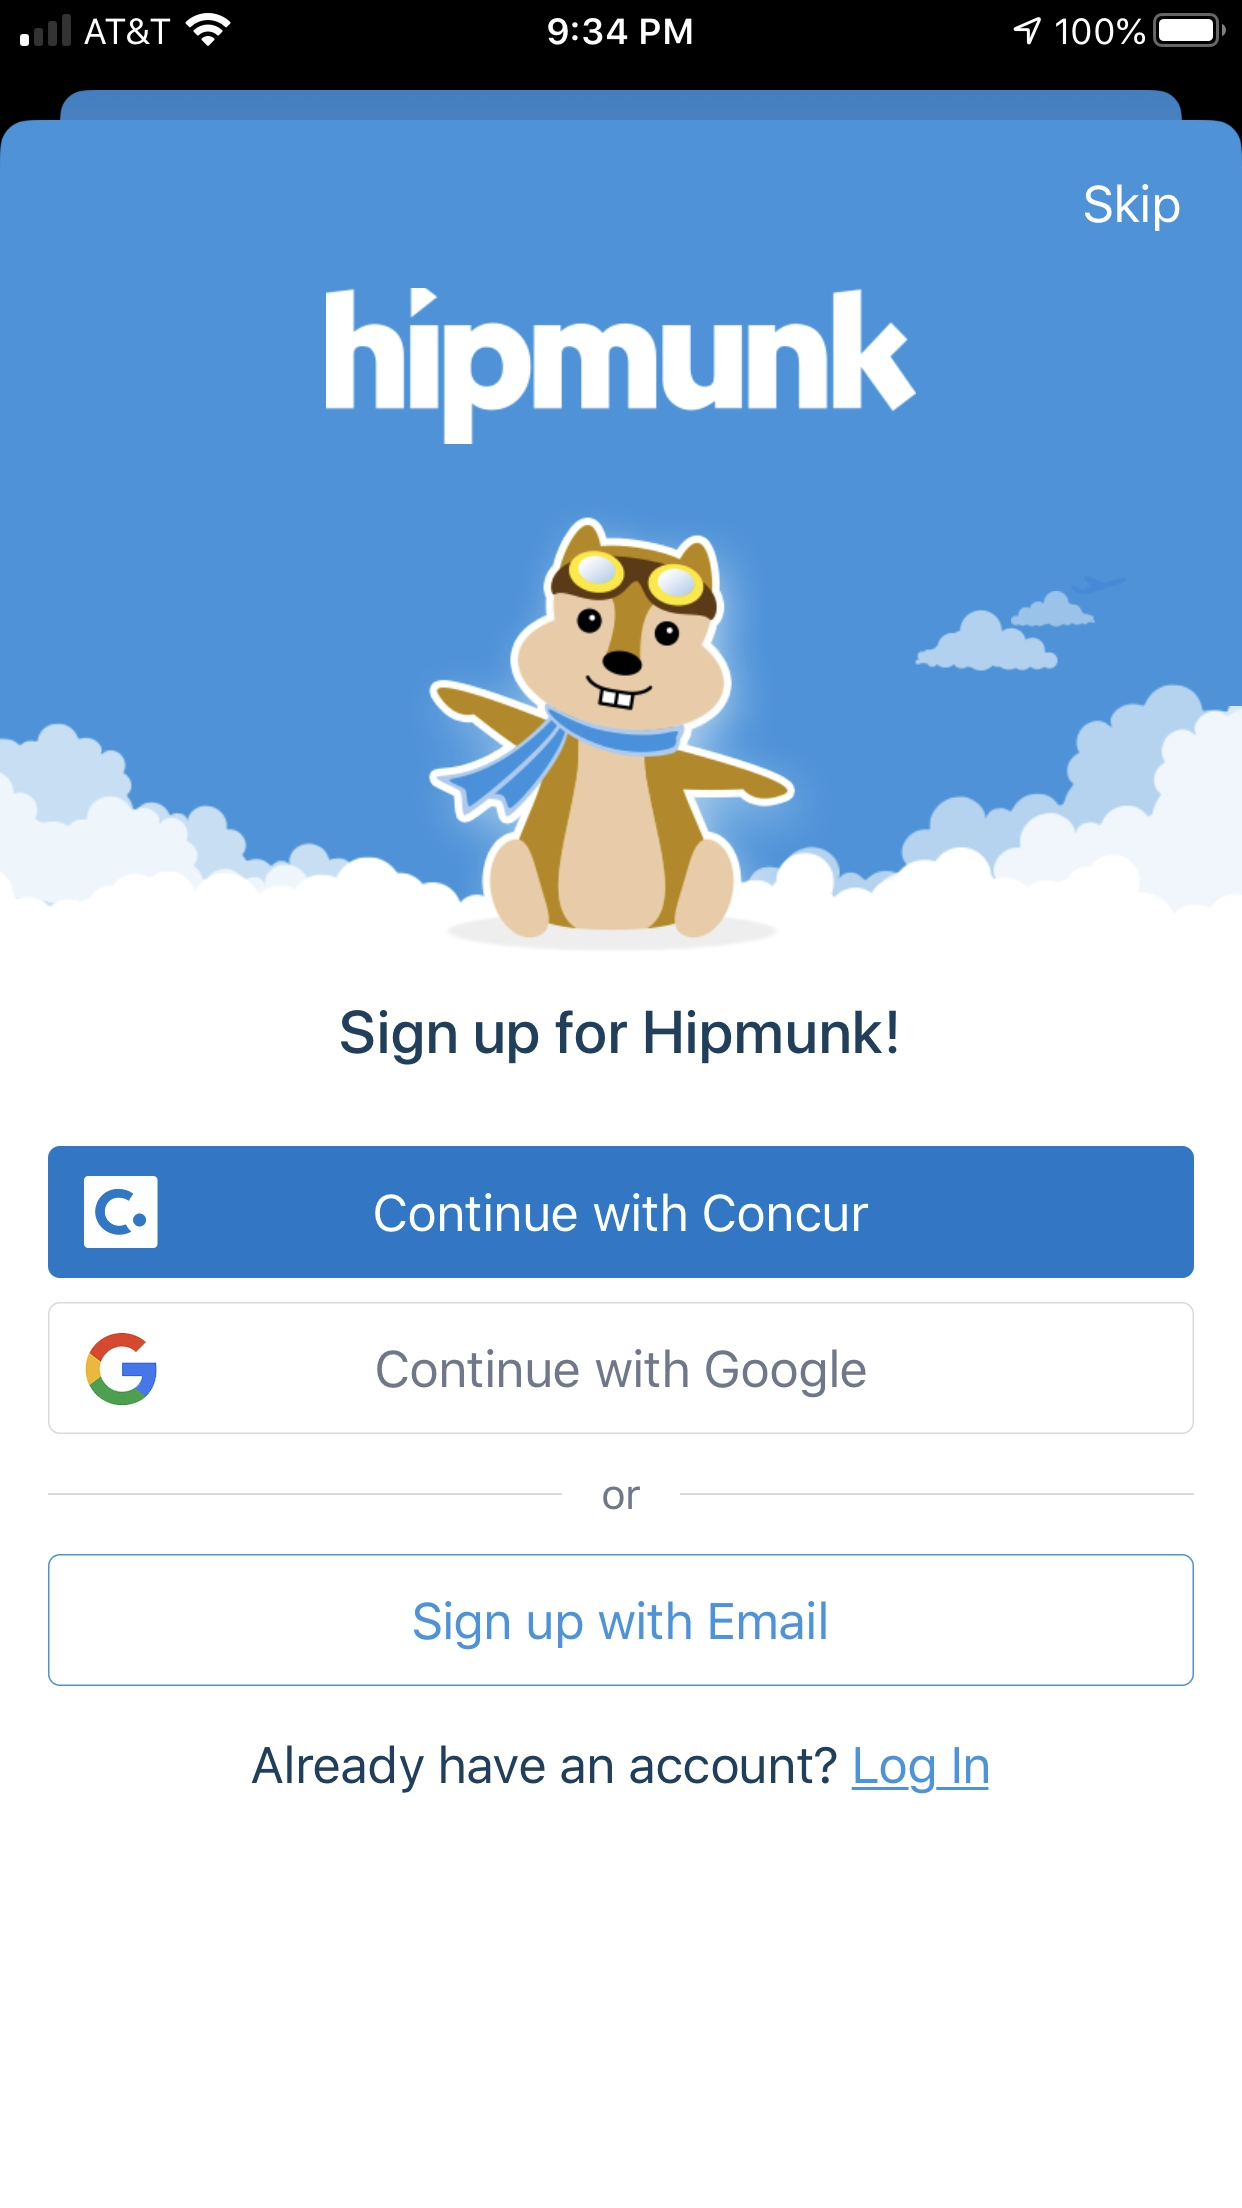Image: (2, 120, 1242, 952), (328, 288, 914, 444)
Text: (252, 1744, 989, 1794), (341, 1010, 898, 1065), (1084, 183, 1180, 232), (604, 1486, 640, 1510)
TextButton: (49, 1553, 1193, 1686), (49, 1303, 1193, 1435), (49, 1146, 1193, 1278)
UpperTaskBar: (2, 2, 1242, 47)
